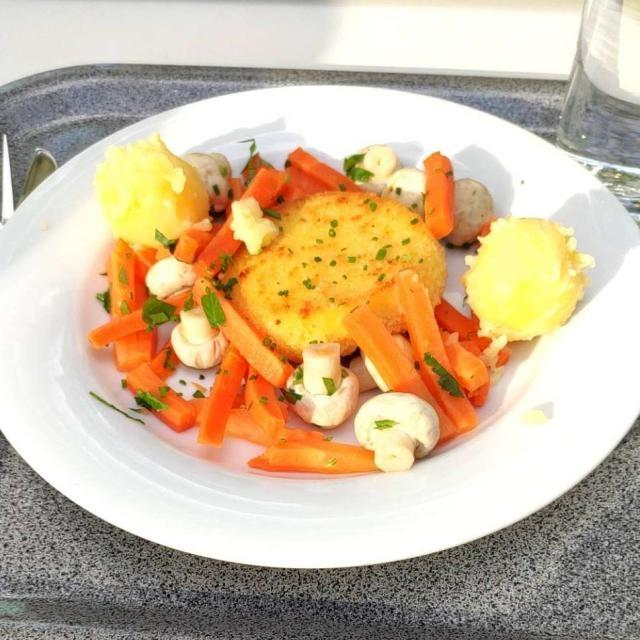breadcrumbs: (235, 196, 437, 351)
carrot: (81, 157, 481, 485)
mashed-potatoes: (97, 133, 608, 339)
tomme: (220, 182, 439, 360)
